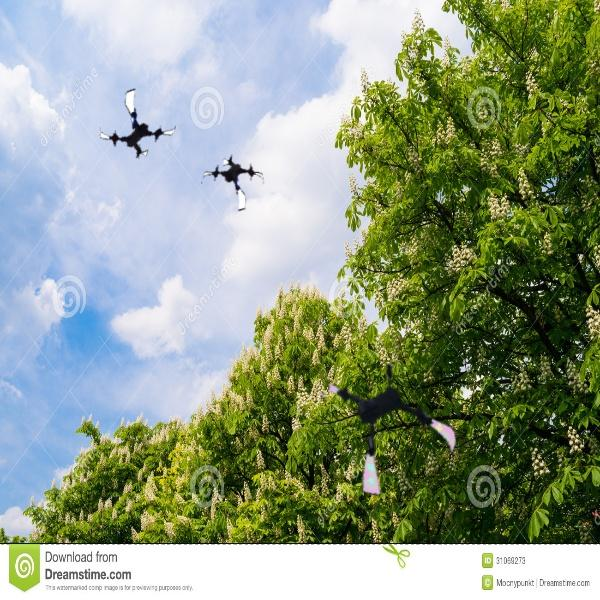drone: (322, 355, 465, 498), (101, 83, 181, 163), (200, 152, 266, 218)
